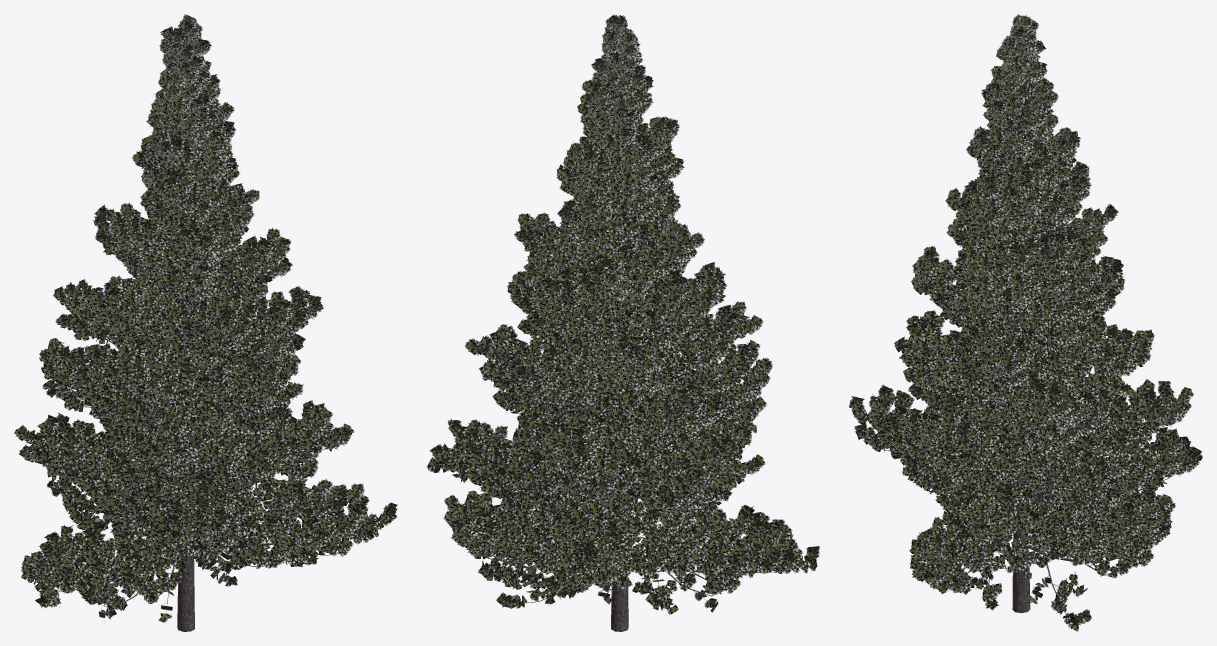
File: tree.fbx
3 views of the same model, side by side, from view 1: azimuth 30°, elevation 25°; view 2: azimuth 150°, elevation 25°; view 3: azimuth 270°, elevation 25° (orthographic). The views are drawn at different scales.
Visible parts, largest first — view 1: leaves.002, tree.002; view 2: leaves.002, tree.002; view 3: leaves.002, tree.002.
Part boxes in pixels (left/top/right/bottom): leaves.002: left=14, top=14, right=397, bottom=622; tree.002: left=40, top=81, right=368, bottom=631; leaves.002: left=426, top=14, right=819, bottom=615; tree.002: left=440, top=134, right=777, bottom=631; leaves.002: left=849, top=14, right=1202, bottom=631; tree.002: left=863, top=158, right=1175, bottom=613.
Size of the model in its own units: 3.7 by 6.32 by 3.4.
2 materials, 2 textured.
